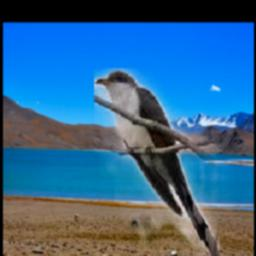Cuckoo: (94, 68, 220, 256)
